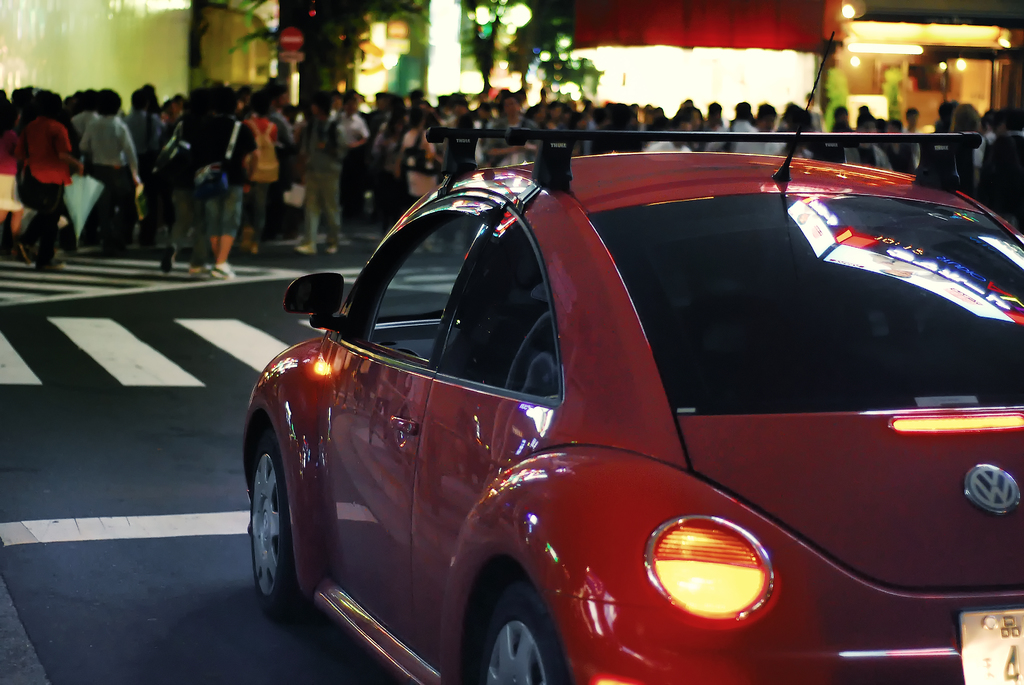person: (730, 102, 785, 153)
